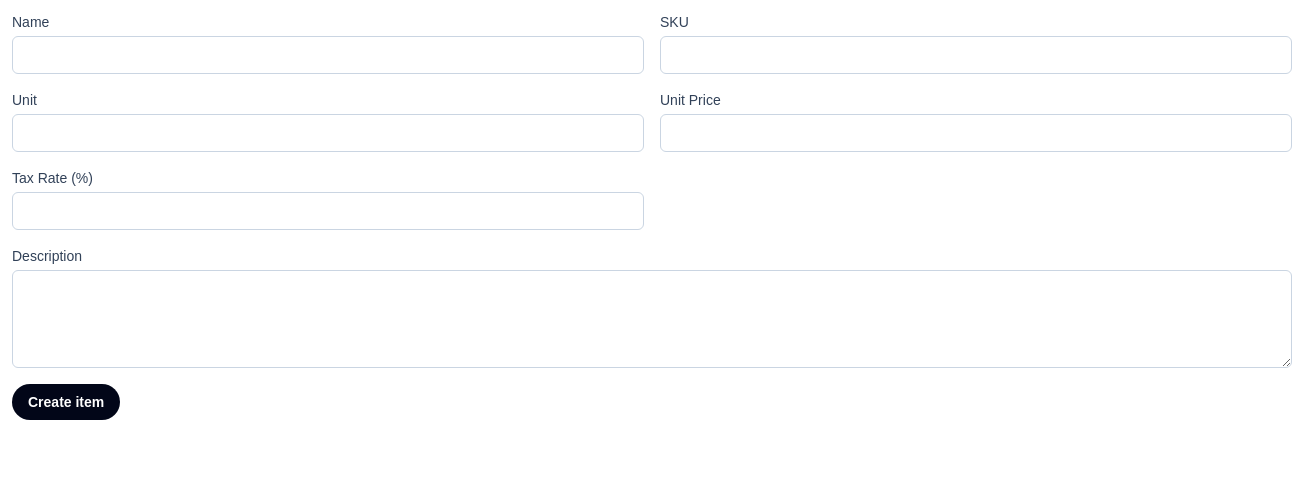
Test: CreateItemForm › shows the server's error message when creation fails
This screenshot has width=1304, height=499.
Type "Consulting Hour" into the field labelled "Name" at [328, 55], box [12,36,644,74]
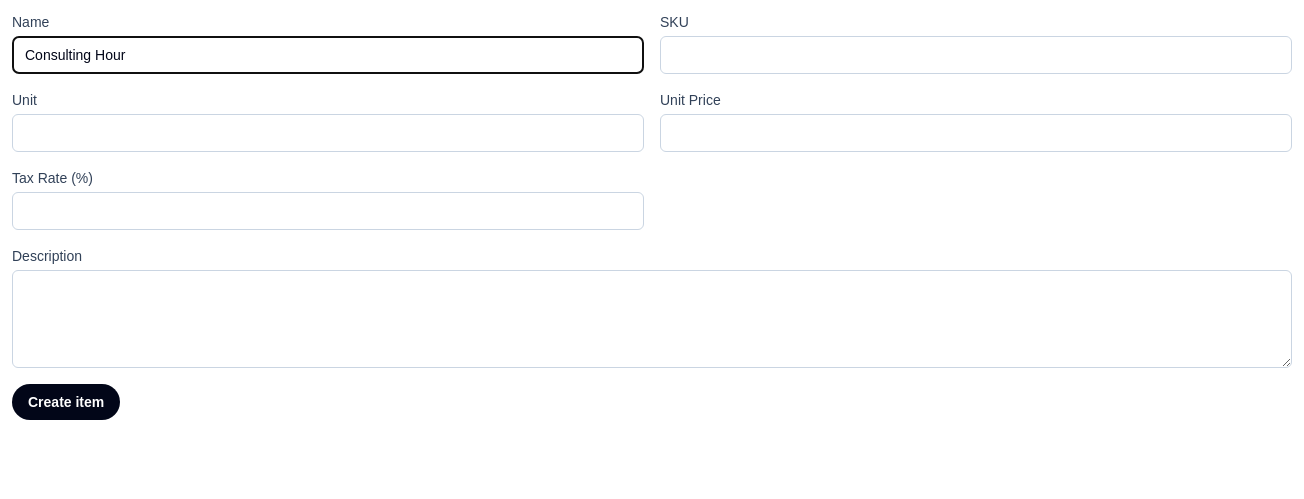
Click the button "Create item" at [66, 402], box [12,384,120,420]
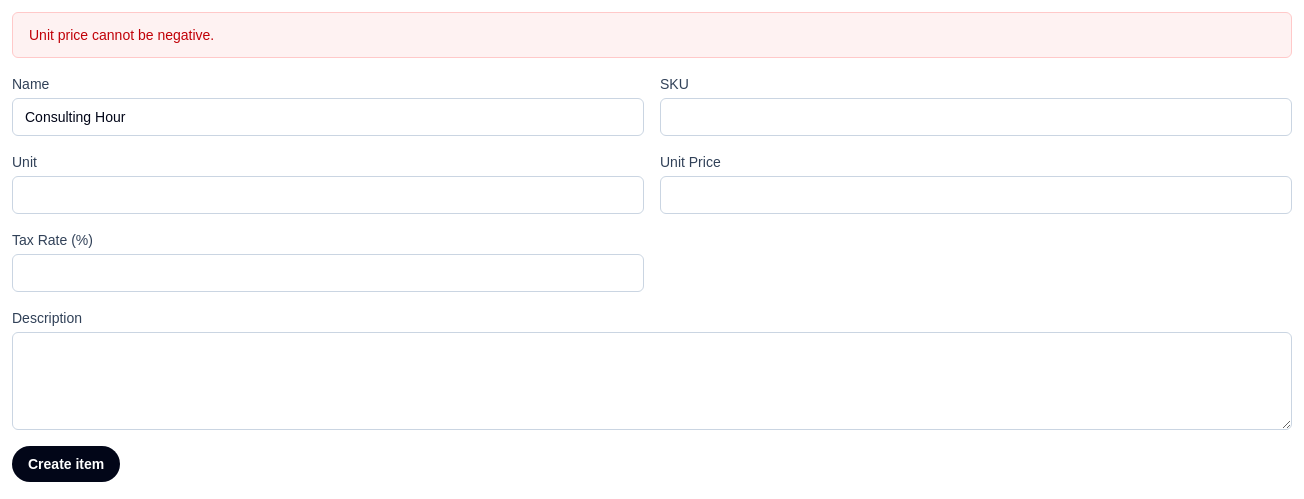
expect the message reads "Unit price cannot be negative.": met, box [29,27,214,43]
